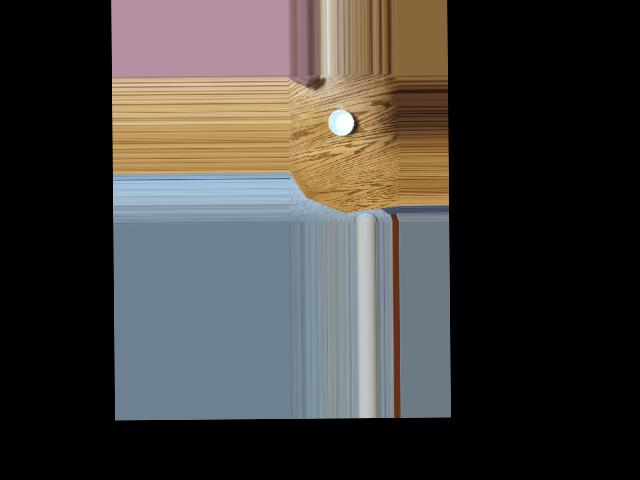cotage: (325, 106, 353, 136)
